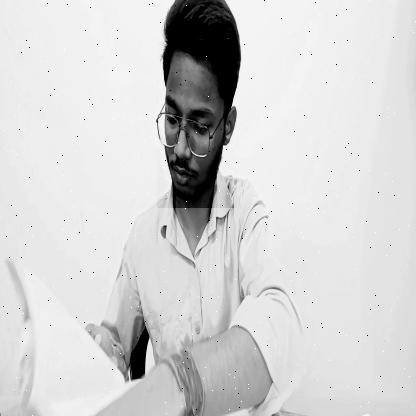Distracted: (157, 41, 237, 208)
